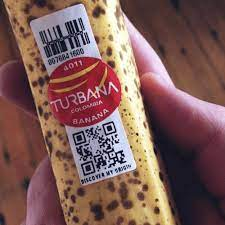qr_code: (67, 122, 131, 177)
